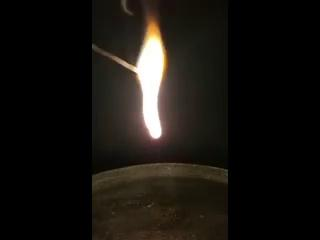Fire: (138, 20, 169, 143)
